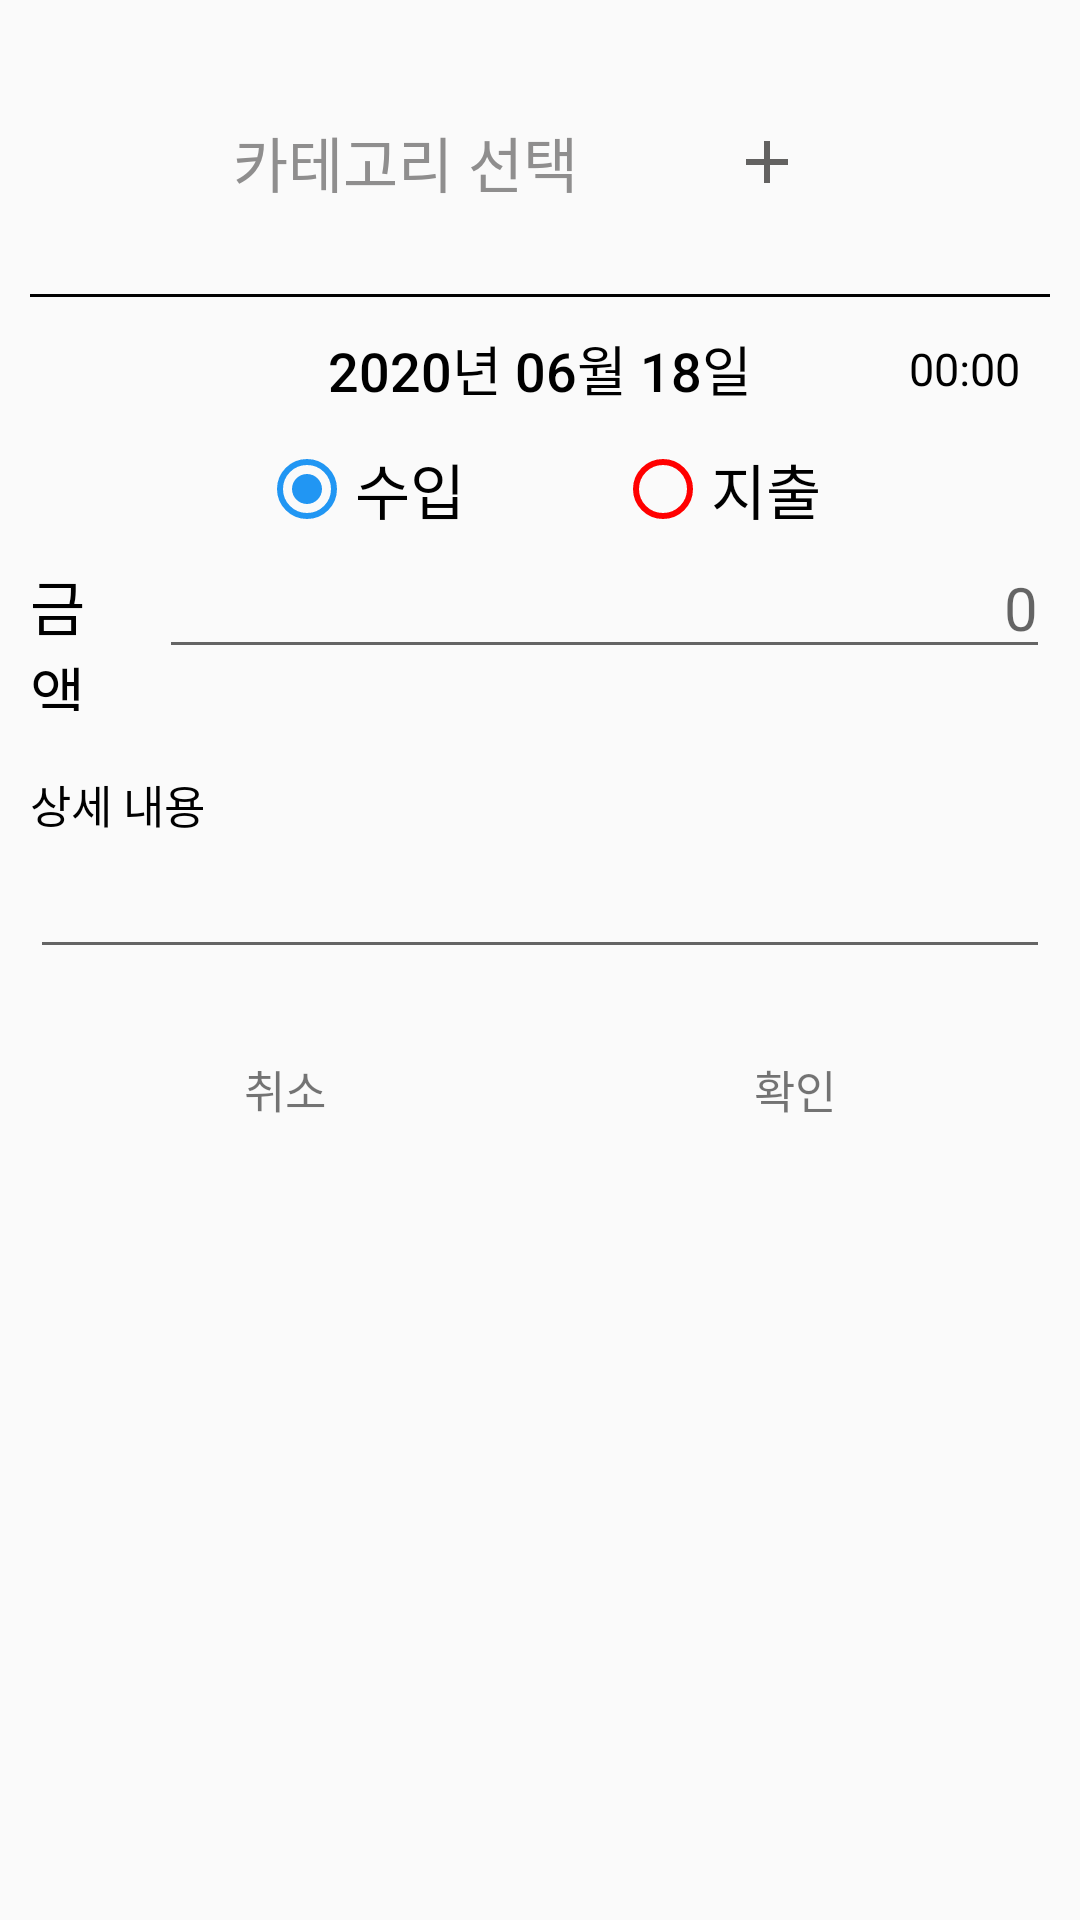

Where to tap for icons on this 1080 × 1920 app screen, as point (x, y):
add: point (767, 162)
